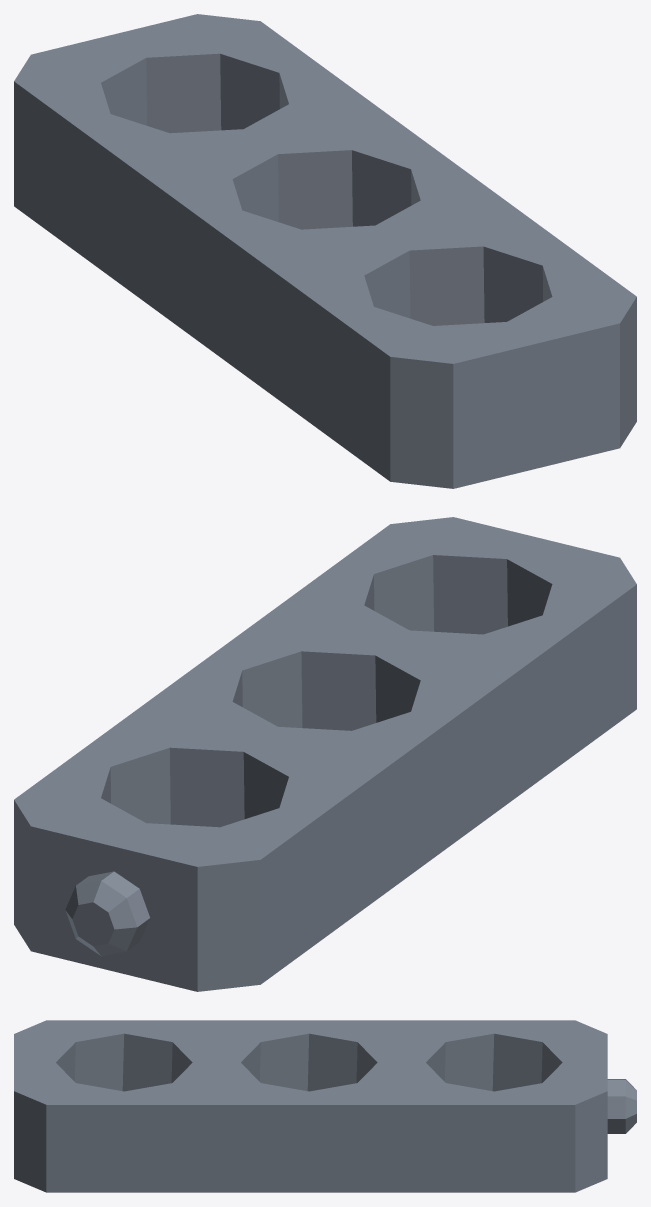
Rendered from Extension.fbx.
3 views of the same model, one above another, from view 1: azimuth 30°, elevation 25°; view 2: azimuth 150°, elevation 25°; view 3: azimuth 270°, elevation 25° (orthographic). The views are drawn at different scales.
Visible parts, largest first — view 1: Plane.295; view 2: Plane.295; view 3: Plane.295.
Boxes of the visible parts, x1,y1,x2,y2 form: Plane.295: [14, 14, 636, 488]; Plane.295: [14, 517, 636, 991]; Plane.295: [14, 1020, 636, 1192].
Bounding box in the file's own units: 0.2096 × 0.6525 × 0.1015.
